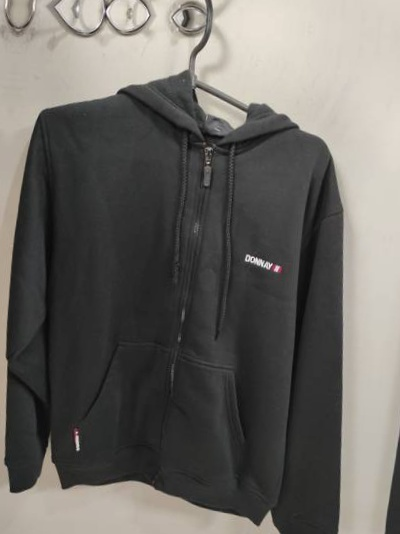Hoodie: (0, 54, 396, 534), (363, 87, 400, 534), (0, 19, 5, 534)
